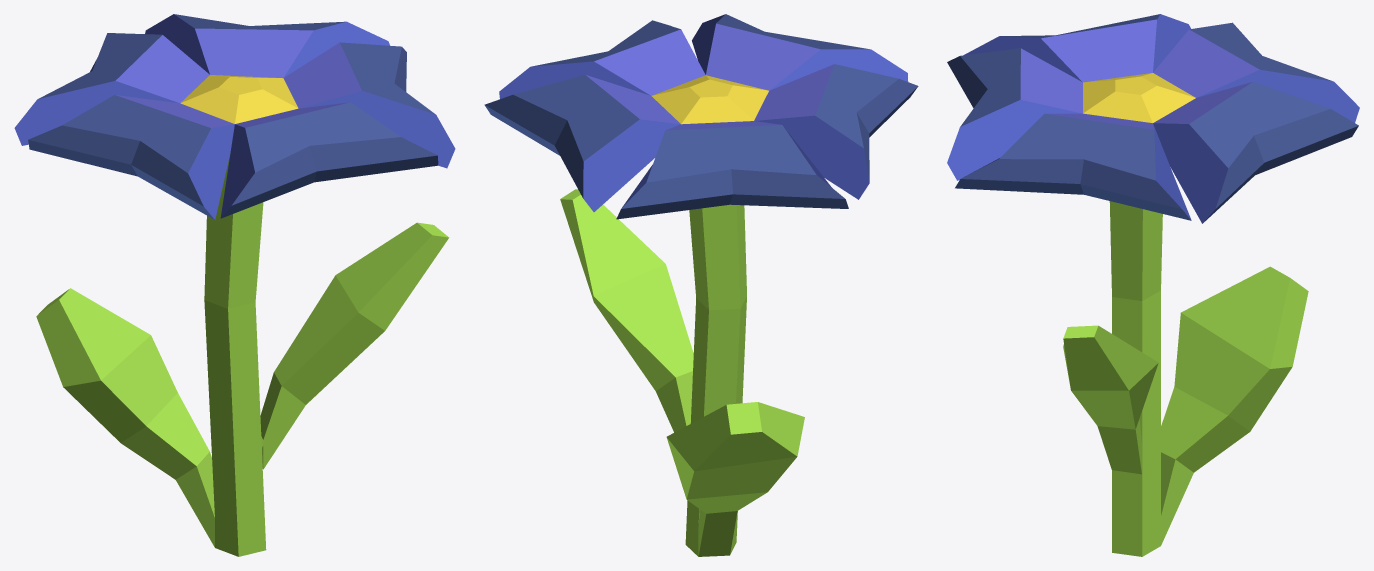
Rendered from flower_deep_blue_detail.fbx.
3 views of the same model, side by side, from view 1: azimuth 30°, elevation 25°; view 2: azimuth 150°, elevation 25°; view 3: azimuth 270°, elevation 25° (orthographic).
Visible parts, largest first — view 1: flower_blue; view 2: flower_blue; view 3: flower_blue.
Boxes of the visible parts, <box> form: flower_blue: <box>14,14,455,556</box>; flower_blue: <box>484,14,918,556</box>; flower_blue: <box>947,14,1359,556</box>.
Bounding box in the file's own units: 25.51 × 30.62 × 24.28.
